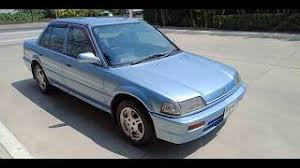sedan: (21, 14, 248, 151)
